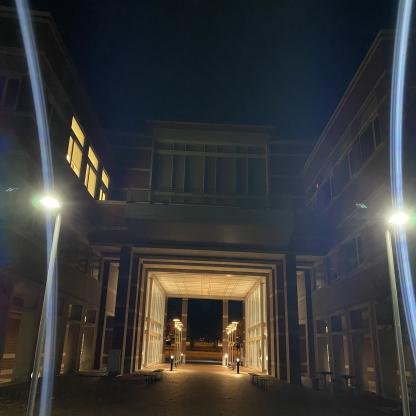eb2: (1, 48, 410, 385)
